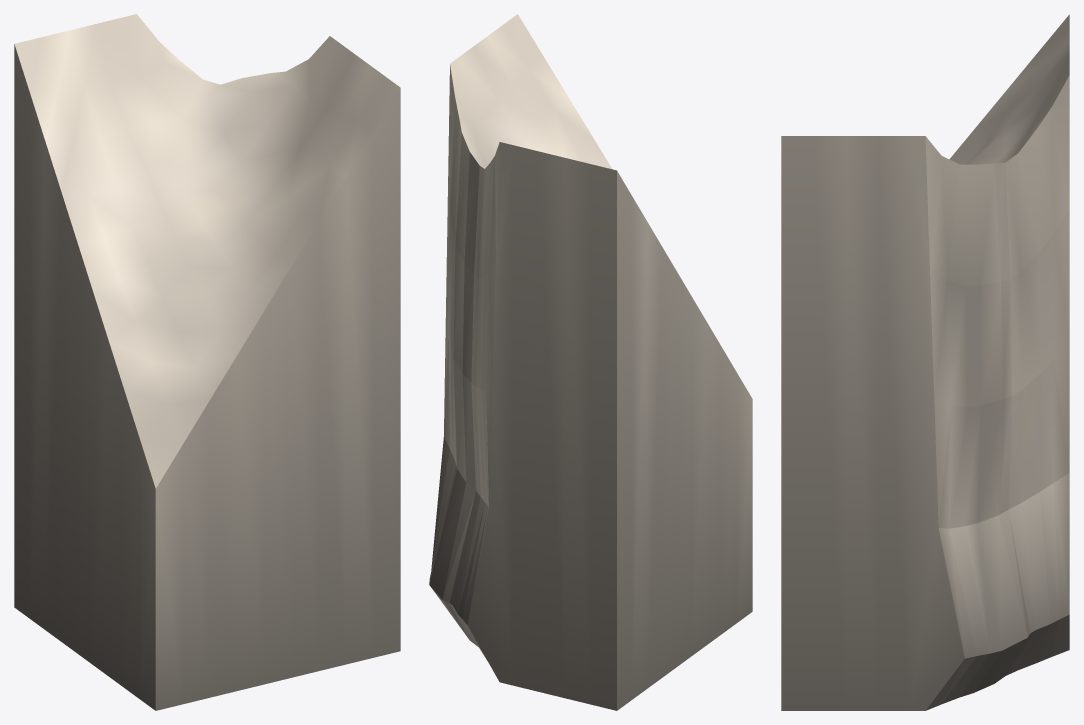
File: SM_VKI_Rock_Cave_CFOF_B.fbx
3 views of the same model, side by side, from view 1: azimuth 30°, elevation 25°; view 2: azimuth 150°, elevation 25°; view 3: azimuth 270°, elevation 25° (orthographic). The views are drawn at different scales.
Parts seen in each view (by area): view 1: SM_VKI_Rock_Cave_CFOF_B.001; view 2: SM_VKI_Rock_Cave_CFOF_B.001; view 3: SM_VKI_Rock_Cave_CFOF_B.001.
Boxes of the visible parts, x1,y1,x2,y2 form: SM_VKI_Rock_Cave_CFOF_B.001: (14,14,400,710); SM_VKI_Rock_Cave_CFOF_B.001: (429,14,752,710); SM_VKI_Rock_Cave_CFOF_B.001: (781,14,1069,710).
Size of the model in its own units: 1.5 by 3.3 by 1.5.
